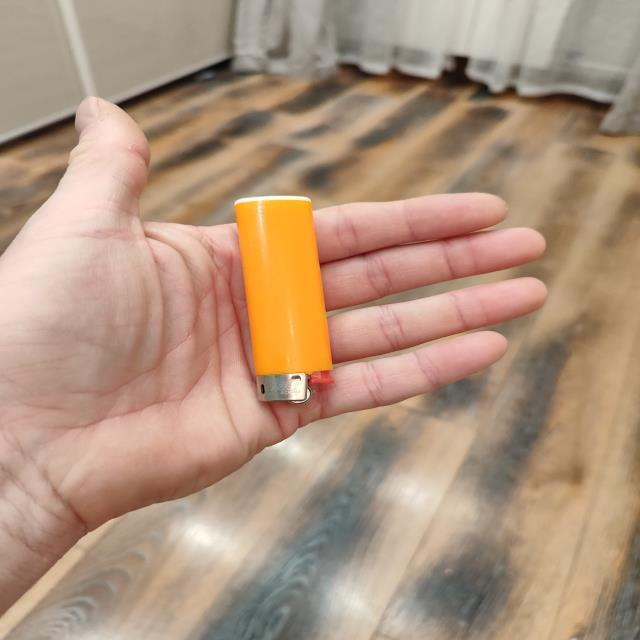lighter: (234, 196, 331, 401)
